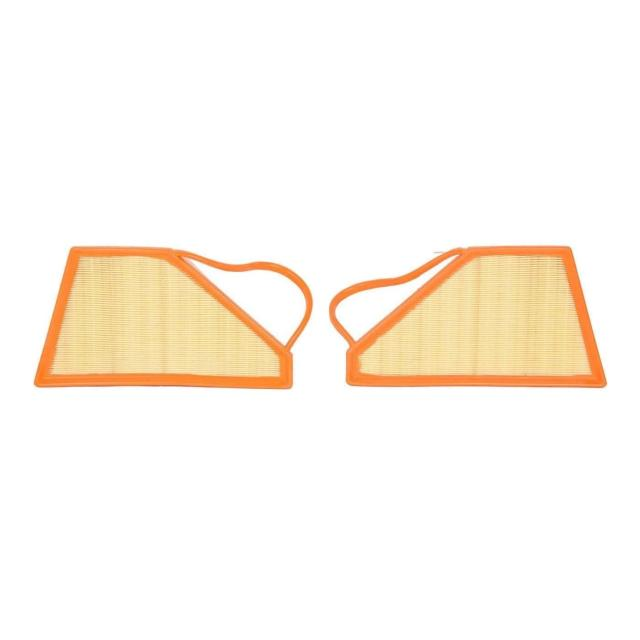air_filter: (324, 223, 610, 403), (30, 228, 313, 396)
